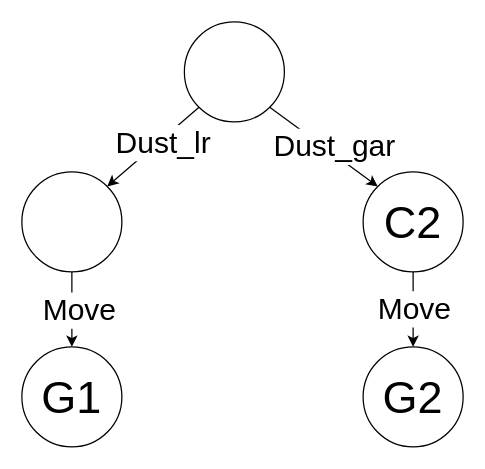
This 485x469 diagram has some shape labels left out. Each missing label, with the box of its shape:
C1: (21, 171, 122, 272)
Goal: (183, 21, 284, 122)
